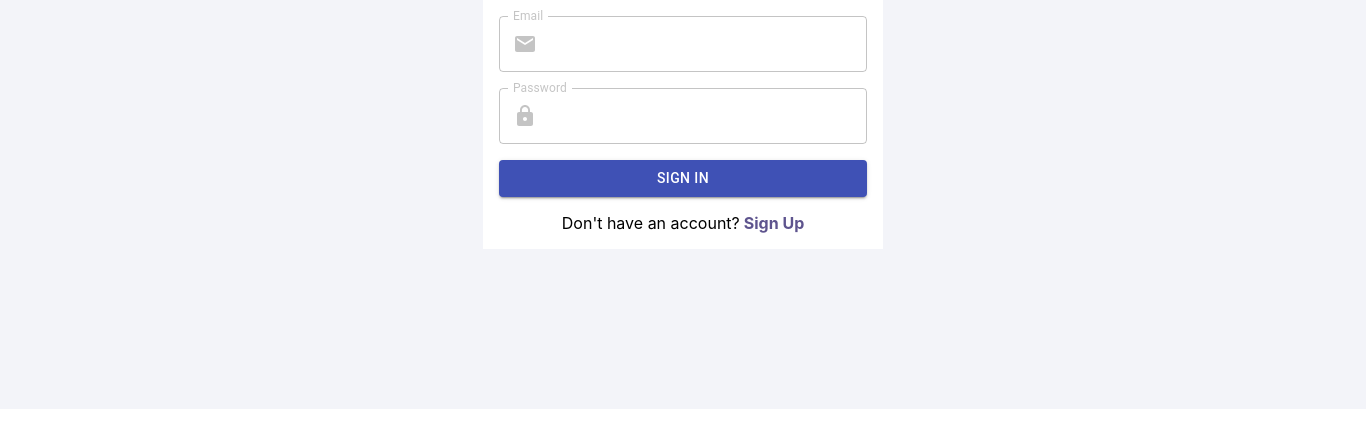
Test: Sign in tests › Can see alert message after invalid sign in
Click the button "Sign In" at (683, 178), box x1=499 y1=160 x2=867 y2=196
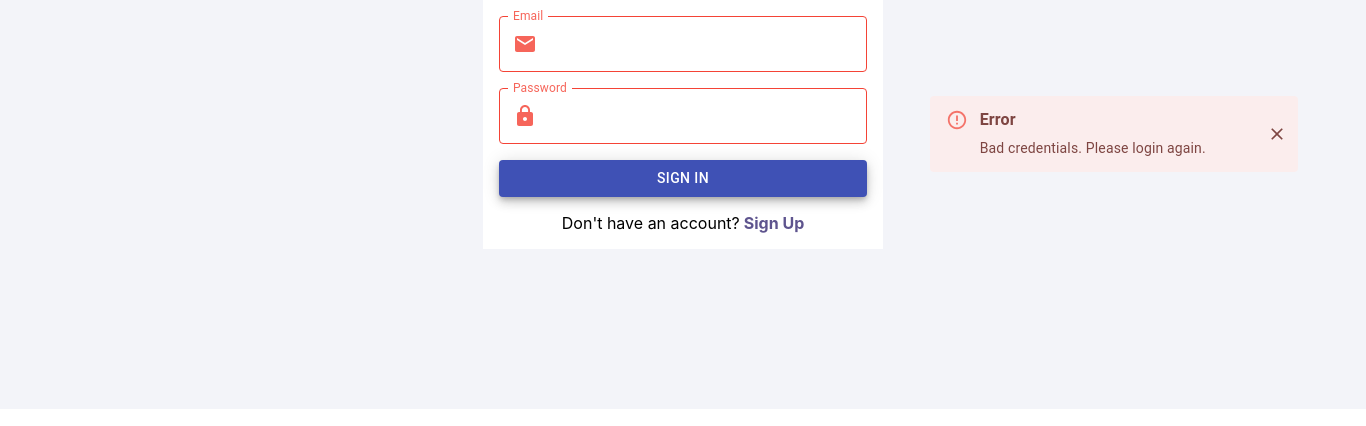
Check: the message "Error Bad credentials. Please login again." is shown, box x1=930 y1=96 x2=1298 y2=172
Check: the text "Bad credentials. Please login again." is shown, box x1=980 y1=138 x2=1206 y2=158
